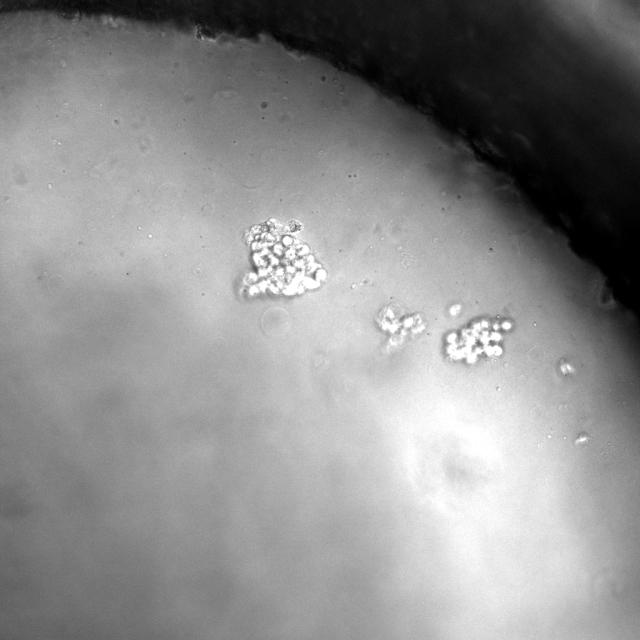organoid: (240, 218, 326, 297), (444, 317, 512, 364), (375, 306, 426, 352)
